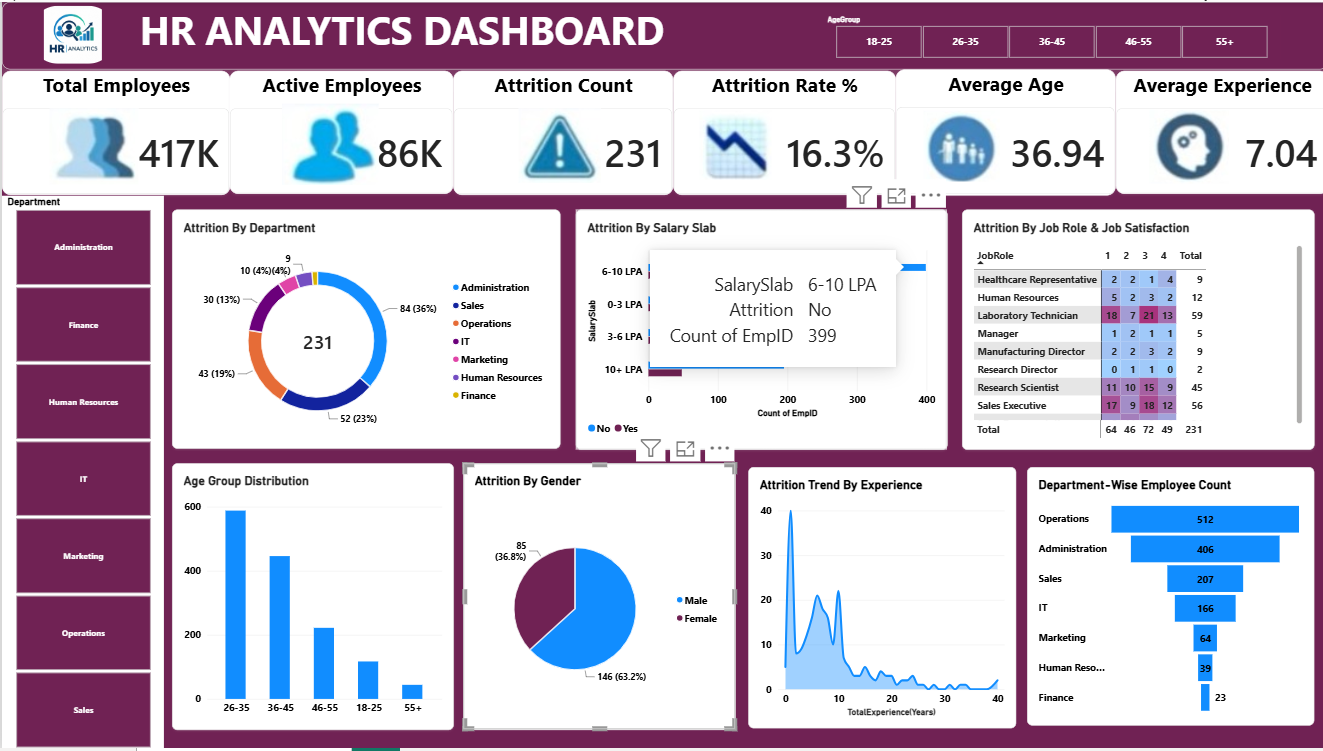

This screenshot's page, from the dashboard's own definition file:
{"tool":"powerbi","page":{"name":"HR Analytics Dashboard","canvas":[1920,1080],"ordinal":0},"visuals":[{"type":"textbox","box":[0,0,1920,97.5],"z":0},{"type":"image","box":[40,6,126,84],"z":1000},{"type":"cardVisual","fields":{"Data":["CountNonNull(HR_Analytics-4.EmpID)"]},"box":[0,100,330,180],"z":2000},{"type":"cardVisual","fields":{"Data":["CountNonNull(HR_Analytics-4.EmployeeCount)"]},"box":[330,100,324,178],"z":3000},{"type":"cardVisual","fields":{"Data":["Sum(HR_Analytics-4.AttritionCount)"]},"box":[654,100,318,180],"z":4000},{"type":"cardVisual","fields":{"Data":["HR_Analytics-4.Attrition Rate %"]},"box":[972,100,322,180],"z":5000},{"type":"cardVisual","fields":{"Data":["Avg(HR_Analytics-4.Age)"]},"box":[1294,98,318,182],"z":6000},{"type":"cardVisual","fields":{"Data":["Avg(HR_Analytics-4.YearsatCompany)"]},"box":[1612,100,308,178],"z":7000},{"type":"image","box":[64,154,140,110],"z":8000},{"type":"image","box":[406,144,140,122],"z":9000},{"type":"image","box":[730,154,156,108],"z":10000},{"type":"image","box":[990,158,144,100],"z":11000},{"type":"image","box":[1324,158,130,102],"z":12000},{"type":"image","box":[1662,146,115,125],"z":13000},{"type":"donutChart","title":"Attrition By Department","fields":{"Category":["HR_Analytics-4.Department"],"Y":["Sum(HR_Analytics-4.AttritionCount)"]},"box":[246,300,562,346],"z":14000},{"type":"clusteredBarChart","title":"Attrition By Salary Slab","fields":{"Category":["HR_Analytics-4.SalarySlab"],"Series":["HR_Analytics-4.Attrition"],"Y":["CountNonNull(HR_Analytics-4.EmpID)"]},"box":[830,300,538,348],"z":15000},{"type":"pivotTable","title":"Attrition By Job Role & Job Satisfaction","fields":{"Columns":["HR_Analytics-4.JobSatisfaction"],"Rows":["HR_Analytics-4.JobRole"],"Values":["Sum(HR_Analytics-4.AttritionCount)"]},"box":[1390,300,510,348],"z":16000},{"type":"columnChart","title":"Age Group Distribution","fields":{"Category":["HR_Analytics-4.AgeGroup"],"Y":["Sum(HR_Analytics-4.EmployeeCount)"]},"box":[246,668,408,386],"z":17000},{"type":"pieChart","title":"Attrition By Gender","fields":{"Category":["HR_Analytics-4.Gender"],"Y":["Sum(HR_Analytics-4.AttritionCount)"]},"box":[668,668,394,386],"z":18000},{"type":"areaChart","title":"Attrition Trend By Experience","fields":{"Category":["HR_Analytics-4.TotalExperience(Years)"],"Y":["Sum(HR_Analytics-4.AttritionCount)"]},"box":[1080,674,388,378],"z":19000},{"type":"funnel","title":"Department-Wise Employee Count","fields":{"Category":["HR_Analytics-4.Department"],"Y":["CountNonNull(HR_Analytics-4.EmpID)"]},"box":[1484,674,416,374],"z":20000},{"type":"slicer","fields":{"Values":["HR_Analytics-4.Department"]},"box":[0,280,234,800],"z":21000},{"type":"slicer","fields":{"Values":["HR_Analytics-4.AgeGroup"]},"box":[1188,18,664,64],"z":22000}]}

Visuals, with their boxes in screenshot pixels (x1, y1, x2, y2), scaled from the page's 1920x1080 canvas onto the 1323x751 screenshot:
textbox: {"left": 0, "top": 0, "right": 1322, "bottom": 68}
image: {"left": 28, "top": 4, "right": 114, "bottom": 63}
cardVisual - CountNonNull(HR_Analytics-4.EmpID): {"left": 0, "top": 70, "right": 227, "bottom": 195}
cardVisual - CountNonNull(HR_Analytics-4.EmployeeCount): {"left": 227, "top": 70, "right": 451, "bottom": 193}
cardVisual - Sum(HR_Analytics-4.AttritionCount): {"left": 451, "top": 70, "right": 670, "bottom": 195}
cardVisual - HR_Analytics-4.Attrition Rate %: {"left": 670, "top": 70, "right": 892, "bottom": 195}
cardVisual - Avg(HR_Analytics-4.Age): {"left": 892, "top": 68, "right": 1111, "bottom": 195}
cardVisual - Avg(HR_Analytics-4.YearsatCompany): {"left": 1111, "top": 70, "right": 1322, "bottom": 193}
image: {"left": 44, "top": 107, "right": 141, "bottom": 184}
image: {"left": 280, "top": 100, "right": 376, "bottom": 185}
image: {"left": 503, "top": 107, "right": 611, "bottom": 182}
image: {"left": 682, "top": 110, "right": 781, "bottom": 179}
image: {"left": 912, "top": 110, "right": 1002, "bottom": 181}
image: {"left": 1145, "top": 102, "right": 1224, "bottom": 188}
"Attrition By Department" donutChart: {"left": 170, "top": 209, "right": 557, "bottom": 449}
"Attrition By Salary Slab" clusteredBarChart: {"left": 572, "top": 209, "right": 943, "bottom": 451}
"Attrition By Job Role & Job Satisfaction" pivotTable: {"left": 958, "top": 209, "right": 1309, "bottom": 451}
"Age Group Distribution" columnChart: {"left": 170, "top": 465, "right": 451, "bottom": 733}
"Attrition By Gender" pieChart: {"left": 460, "top": 465, "right": 732, "bottom": 733}
"Attrition Trend By Experience" areaChart: {"left": 744, "top": 469, "right": 1012, "bottom": 732}
"Department-Wise Employee Count" funnel: {"left": 1023, "top": 469, "right": 1309, "bottom": 729}
slicer - HR_Analytics-4.Department: {"left": 0, "top": 195, "right": 161, "bottom": 750}
slicer - HR_Analytics-4.AgeGroup: {"left": 819, "top": 13, "right": 1276, "bottom": 57}
